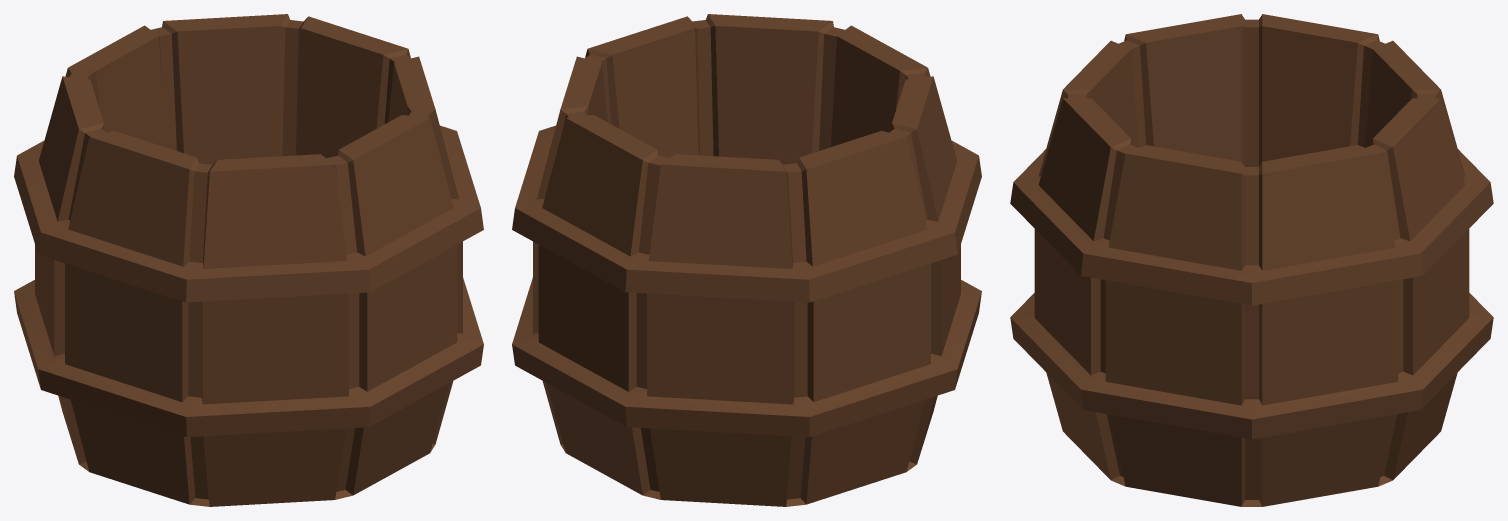
The model's file is a_z3_barrel_s.fbx.
3 renders of one model, left to right at view 1: azimuth 30°, elevation 25°; view 2: azimuth 150°, elevation 25°; view 3: azimuth 270°, elevation 25°, orthographic.
Visible parts, largest first — view 1: a_z3_barrel_s; view 2: a_z3_barrel_s; view 3: a_z3_barrel_s.
Boxes of the visible parts, box(x1,y1,x2,y2) form: a_z3_barrel_s: box(14, 14, 483, 506); a_z3_barrel_s: box(512, 14, 981, 506); a_z3_barrel_s: box(1010, 14, 1493, 506).
Bounding box in the file's own units: 55.47 × 42.18 × 55.47.
